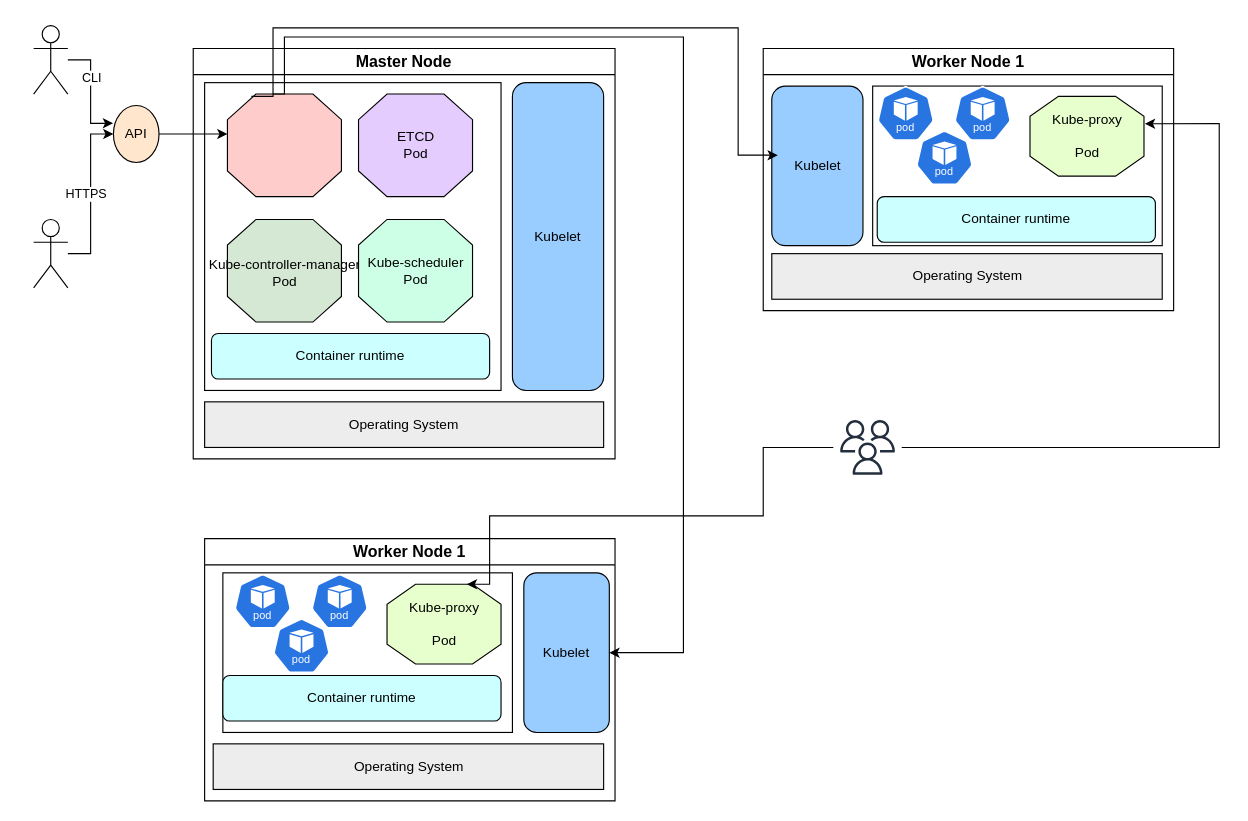
Image size: 1248x821. Some labels were removed from this diagram. Here are the shapes that lost their labels. From the top down, the centre of each, then its label:
At point 50,59: "Admin".
At point 283,145: "Kube-apiserver Pod".
At point 50,253: "Developer".
At point 867,447: "Users".
